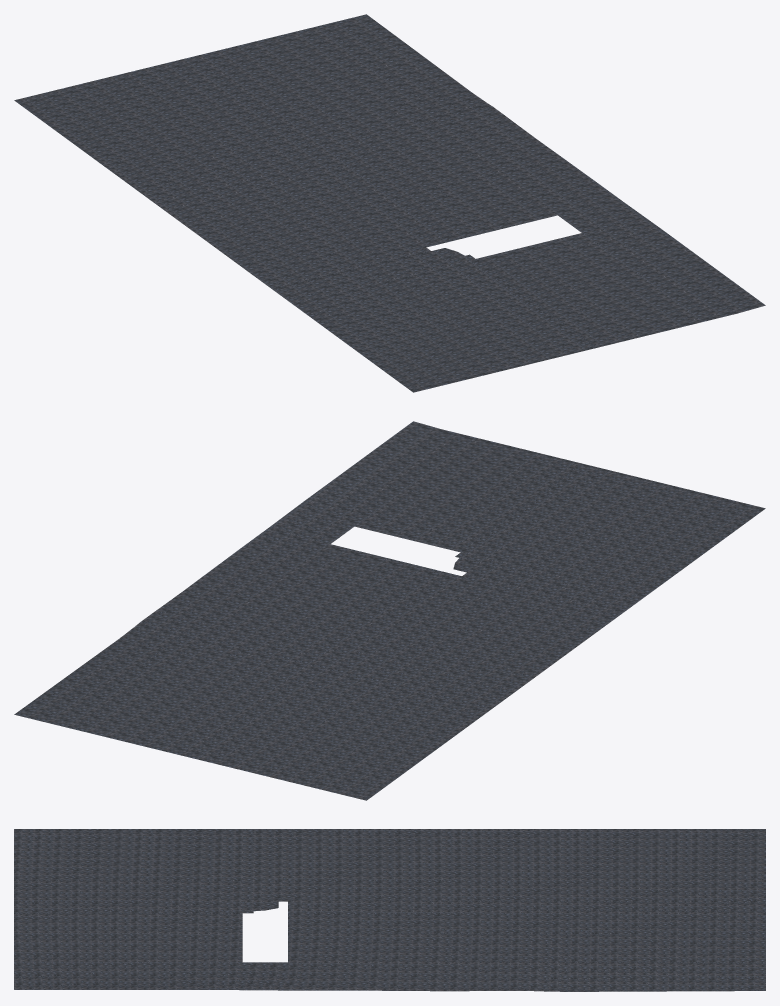
The picture shows the model from 3 angles, top to bottom: view 1: azimuth 30°, elevation 25°; view 2: azimuth 150°, elevation 25°; view 3: azimuth 270°, elevation 25°; orthographic projection. The views are drawn at different scales.
Parts seen in each view (by area): view 1: SMO_BG50_ground_LD11_0012_ILCA; view 2: SMO_BG50_ground_LD11_0012_ILCA; view 3: SMO_BG50_ground_LD11_0012_ILCA.
Boxes of the visible parts, bbox=[...] form: SMO_BG50_ground_LD11_0012_ILCA: bbox=[14, 14, 765, 392]; SMO_BG50_ground_LD11_0012_ILCA: bbox=[14, 421, 765, 800]; SMO_BG50_ground_LD11_0012_ILCA: bbox=[14, 829, 765, 991].
Bounding box in the file's own units: 27807 × 163 × 54552.
